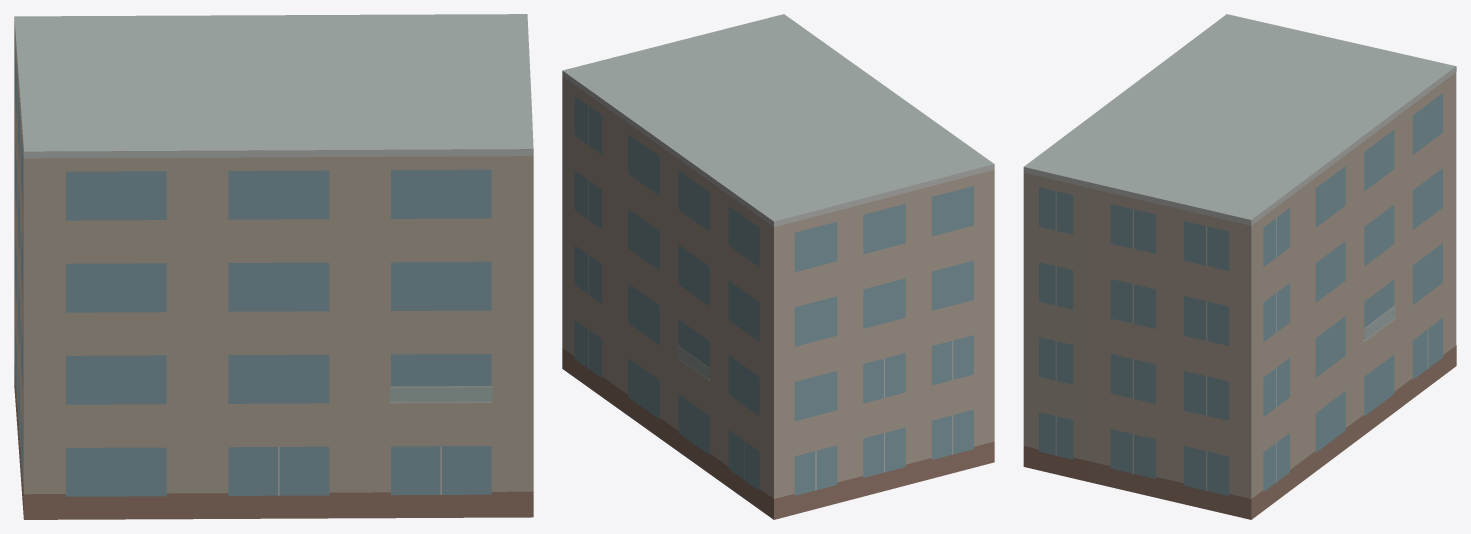
File: survey-upis-32876002.glb
The picture shows the model from 3 angles, left to right: view 1: azimuth 30°, elevation 25°; view 2: azimuth 150°, elevation 25°; view 3: azimuth 270°, elevation 25°; orthographic projection. The views are drawn at different scales.
Visible parts, largest first — view 1: survey-upis-32876002.tmp; view 2: survey-upis-32876002.tmp; view 3: survey-upis-32876002.tmp.
Part boxes in pixels (x1,y1,x2,y2): survey-upis-32876002.tmp: (14,14,533,519); survey-upis-32876002.tmp: (562,14,994,519); survey-upis-32876002.tmp: (1023,14,1456,519).
Size of the model in its own units: 18.87 by 12.8 by 16.75.
